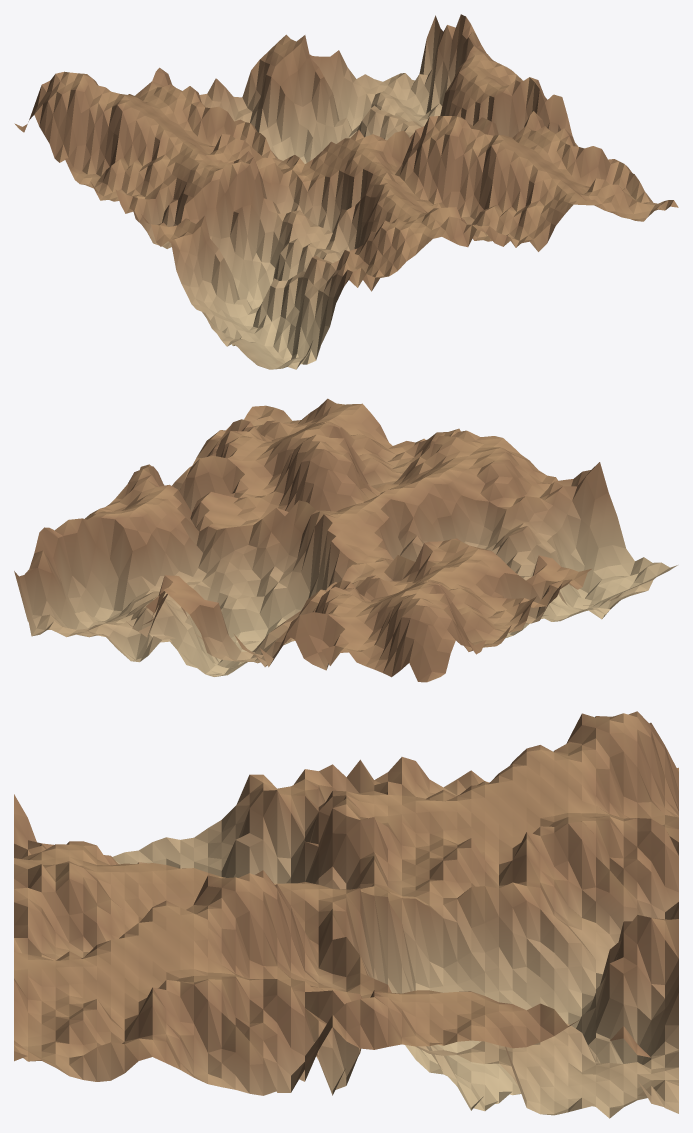
The model's file is desert_lod1.glb.
The picture shows the model from 3 angles, top to bottom: view 1: azimuth 30°, elevation 25°; view 2: azimuth 150°, elevation 25°; view 3: azimuth 270°, elevation 25°; orthographic projection. The views are drawn at different scales.
Visible parts, largest first — view 1: world; view 2: world; view 3: world.
Part boxes in pixels (x1,y1,x2,y2): world: [14, 14, 678, 369]; world: [14, 398, 677, 682]; world: [14, 711, 678, 1118].
Size of the model in its own units: 2 by 0.7584 by 2.
